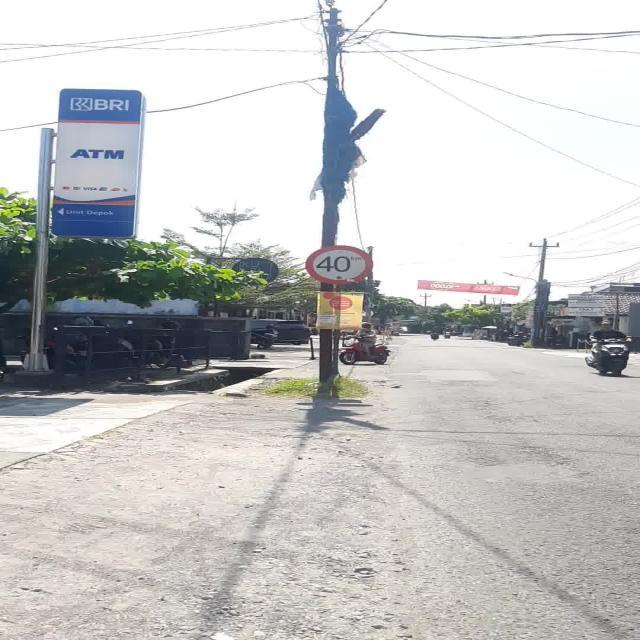Kecepatan Maks. 40 km: (305, 245, 371, 285)
